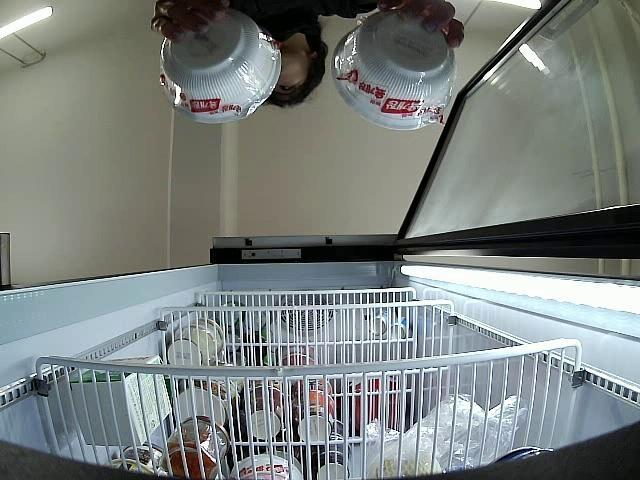09_yukGaeJang: (332, 14, 456, 130), (158, 14, 282, 126)
